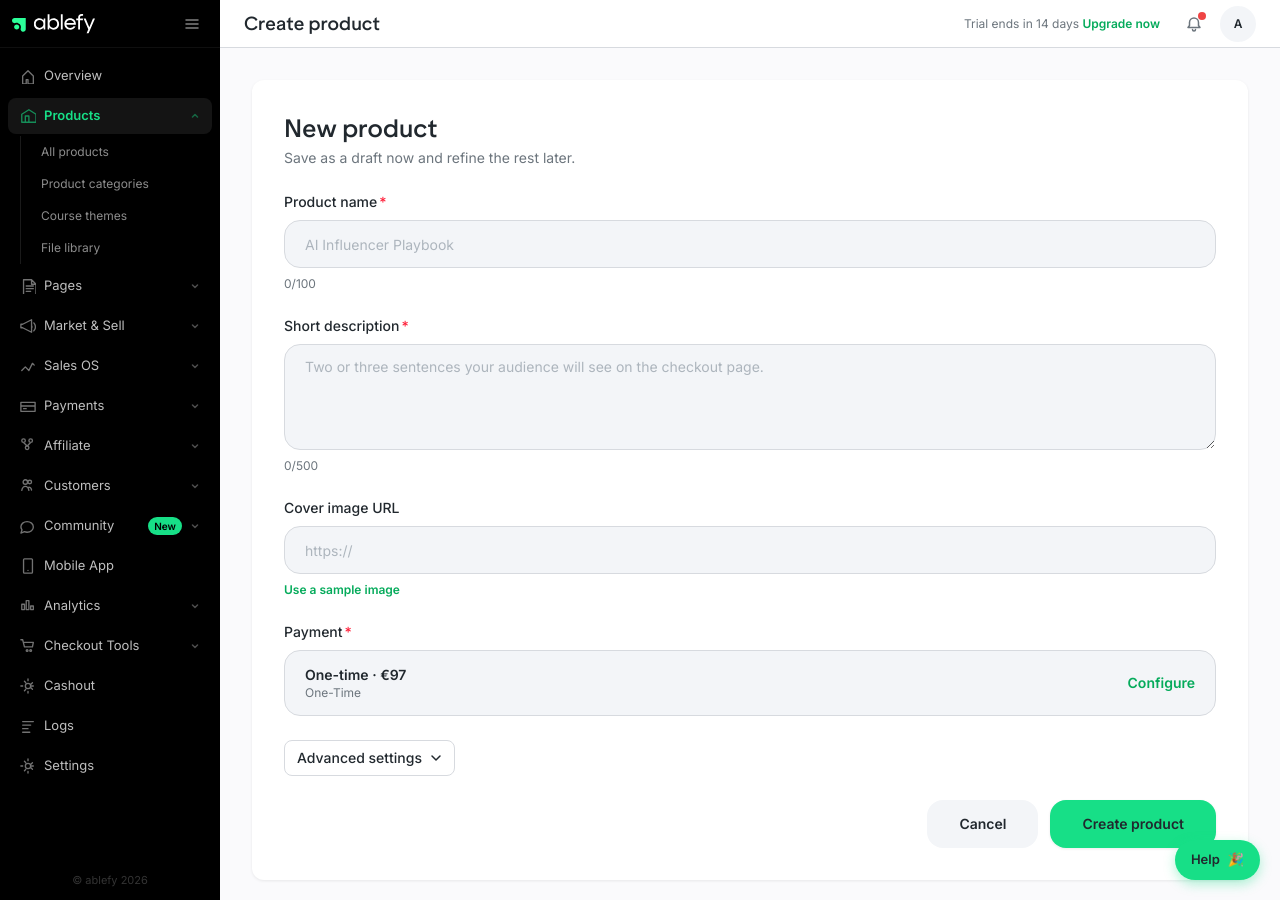
Test: ProductsNew › shows inline validation errors on submit when fields are invalid
This screenshot has width=1280, height=900.
In the field labelled "Product name*": (750, 244) 284,220 -> 1216,268, type "ab"
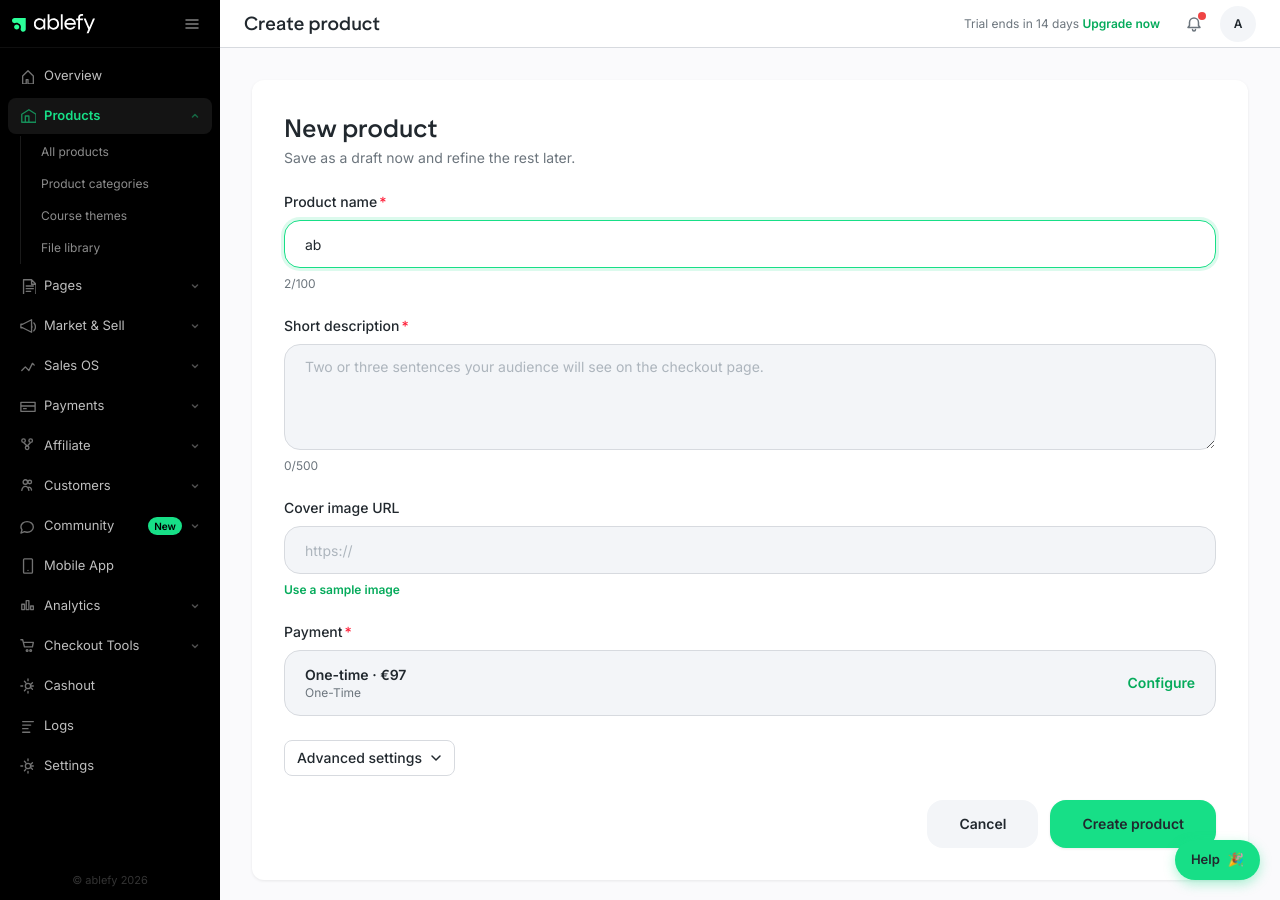
Click the button "Create product": (1133, 824) 1050,800 -> 1216,848
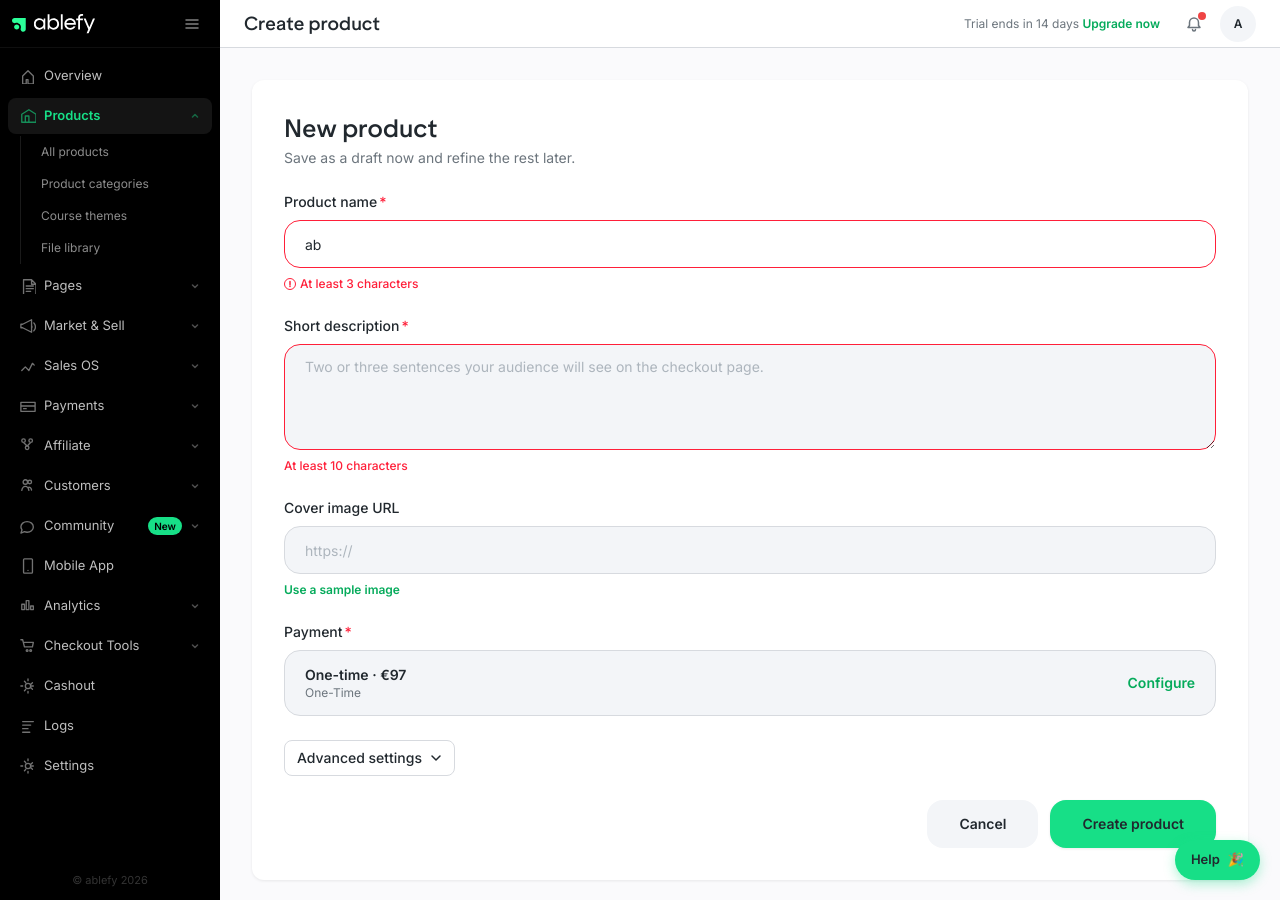
Check: the text "At least 3 characters" is shown, box 284,276 -> 418,291
Check: the text "At least 10 characters" is shown, box 284,458 -> 408,473
